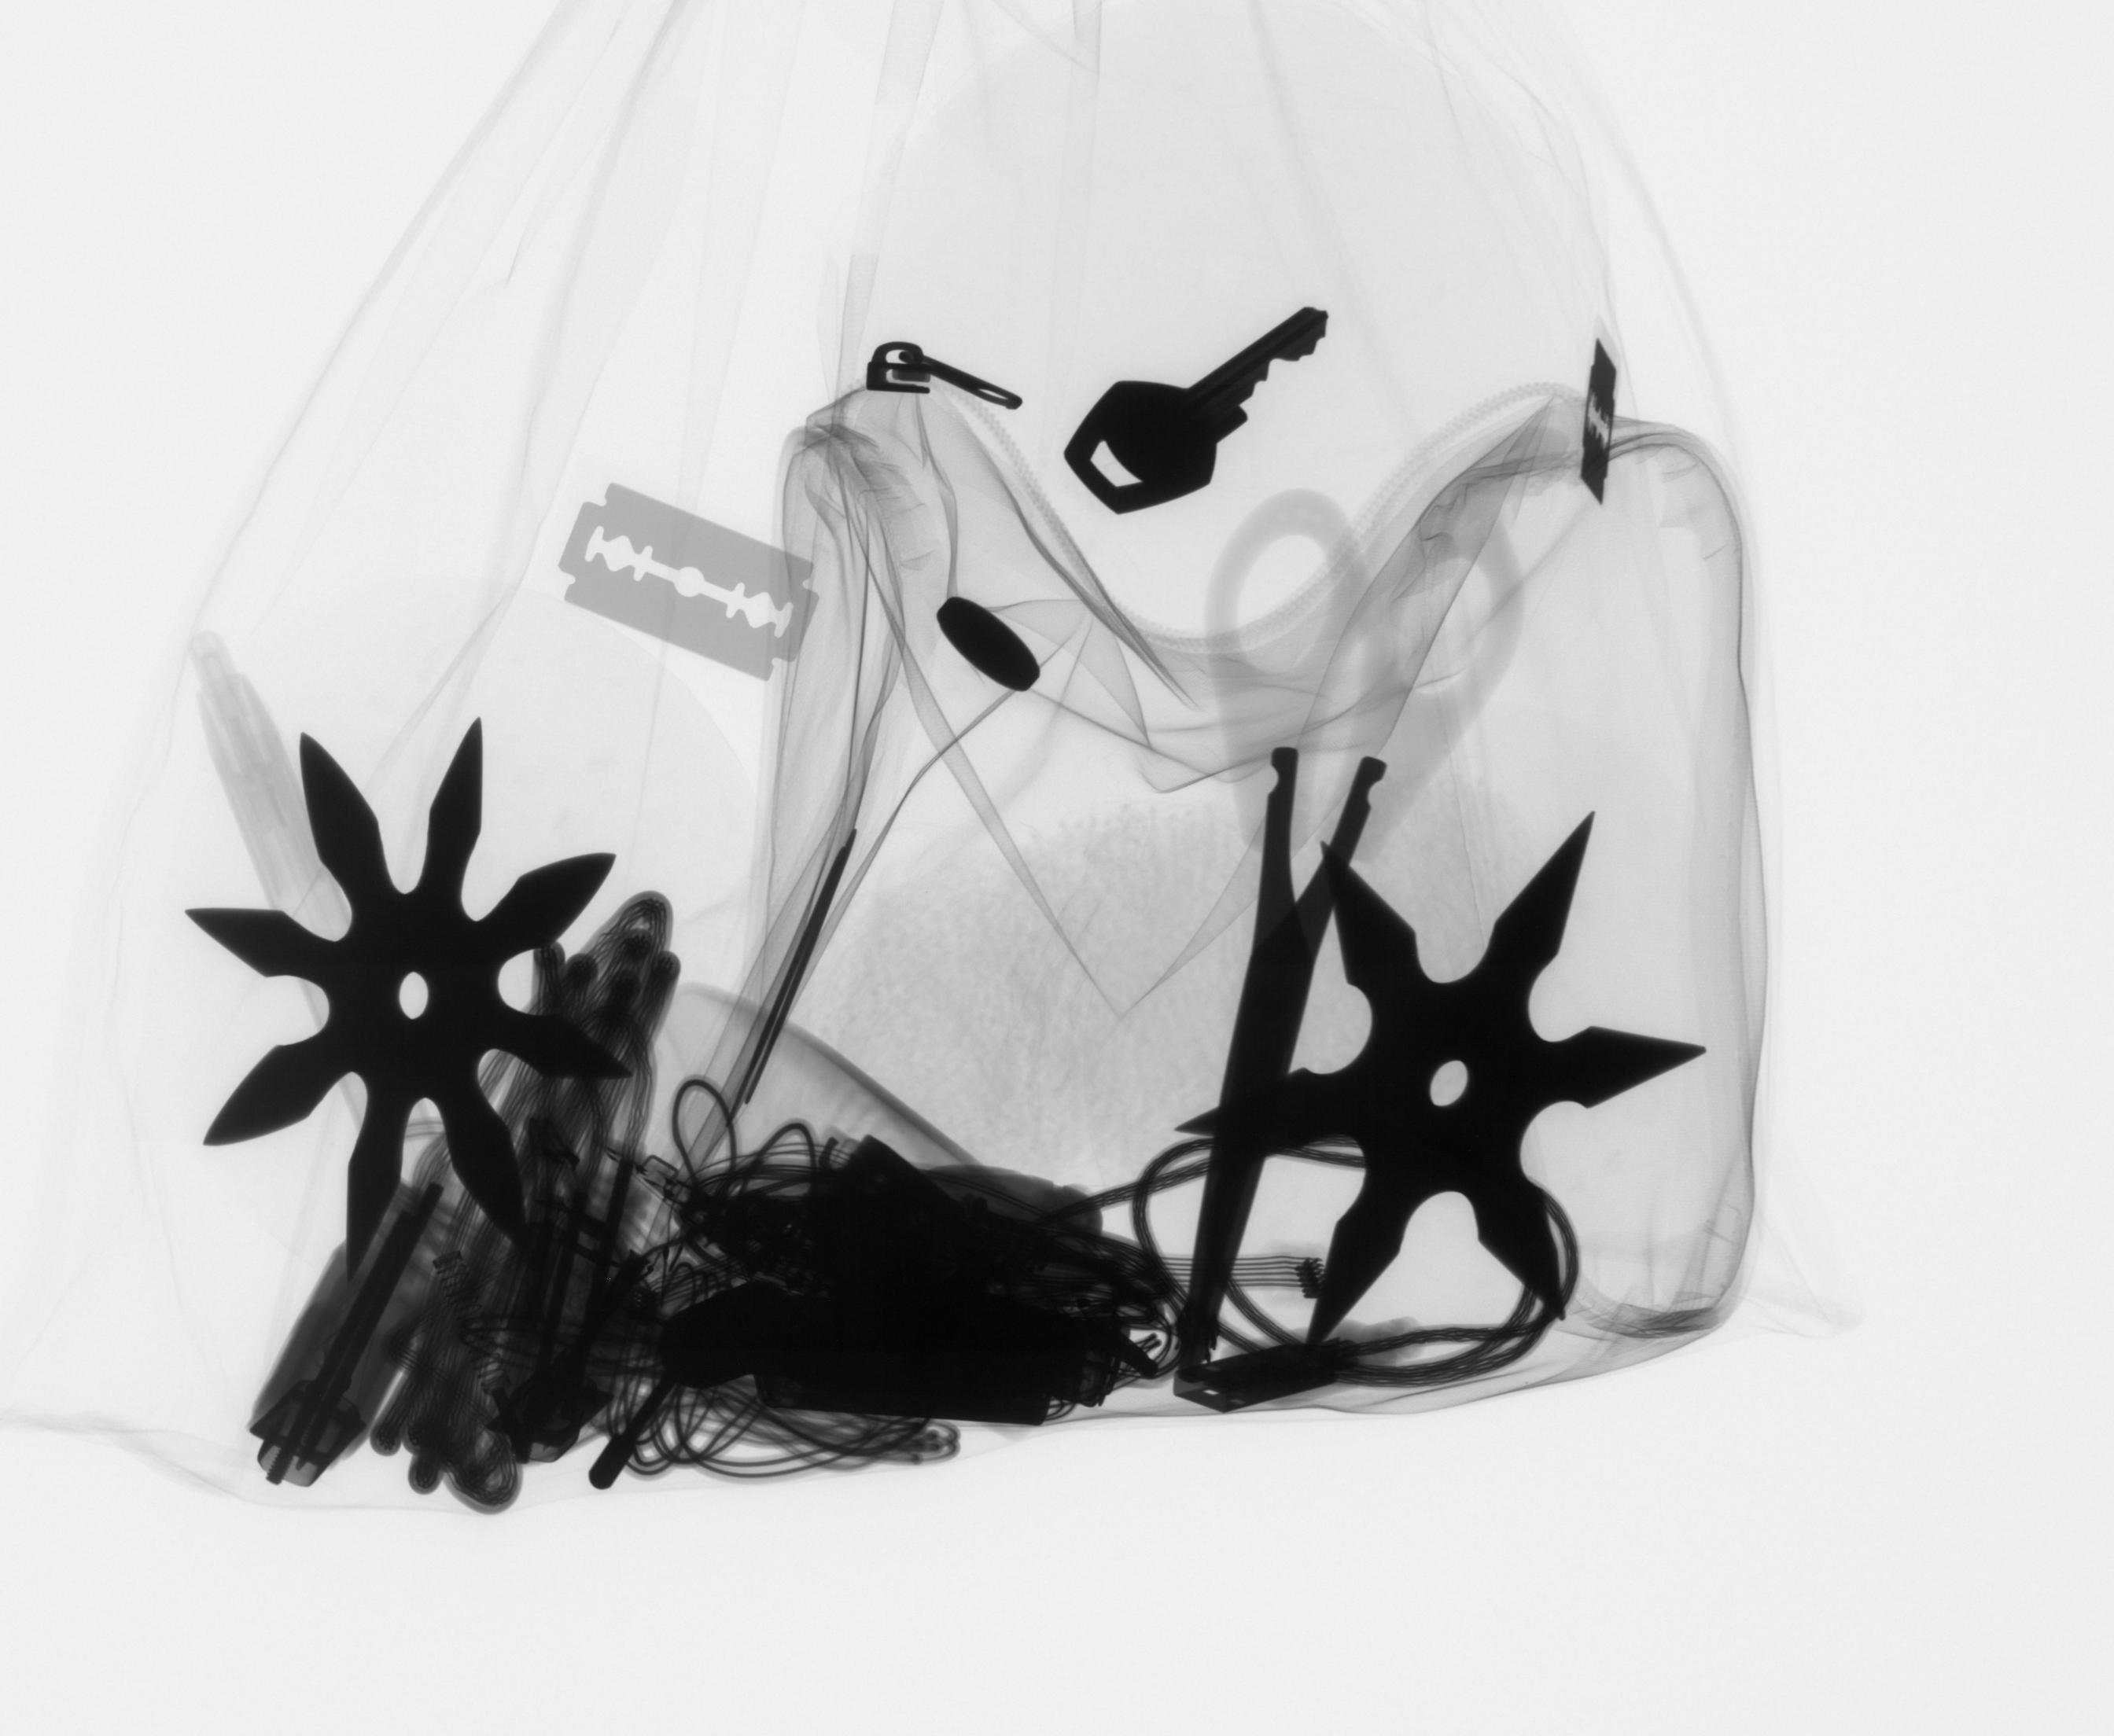RazorBlade: (548, 470, 825, 690), (1571, 335, 1636, 514)
Shuriken: (1169, 806, 1721, 1364), (174, 707, 643, 1290)
